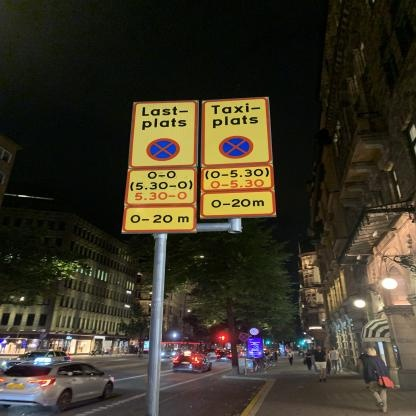lastplats: (127, 99, 197, 170)
